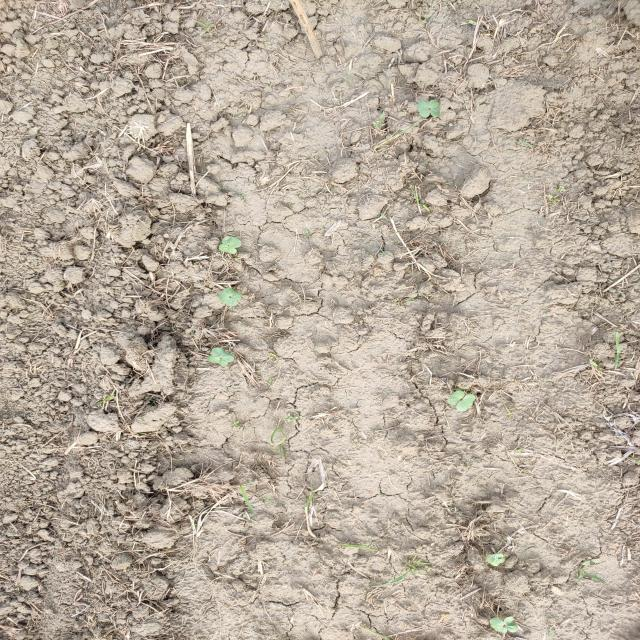seedling_s2: (211, 347, 234, 362), (456, 394, 475, 411), (490, 617, 508, 633), (218, 292, 237, 307), (222, 236, 242, 248), (448, 390, 464, 405), (503, 617, 518, 633), (417, 100, 430, 118), (224, 288, 242, 300), (208, 356, 228, 366), (429, 100, 440, 117), (219, 244, 237, 254), (486, 553, 503, 563), (491, 558, 505, 566)
